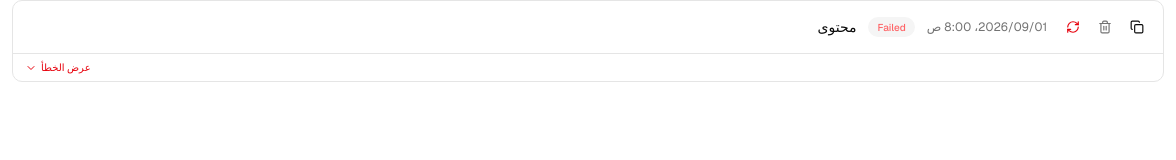
Scenario: PostRow bidirectional content › renders a persisted unavailable-channel code using authored Arabic copy
Click the button "عرض الخطأ" at (66, 68), box [13,54,1163,81]
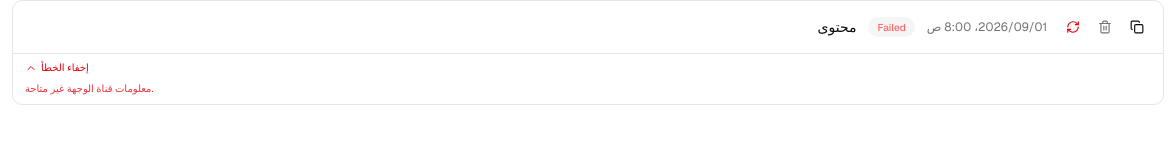
expect the text "معلومات قناة الوجهة غير متاحة." is shown: met, box [25,82,154,95]
